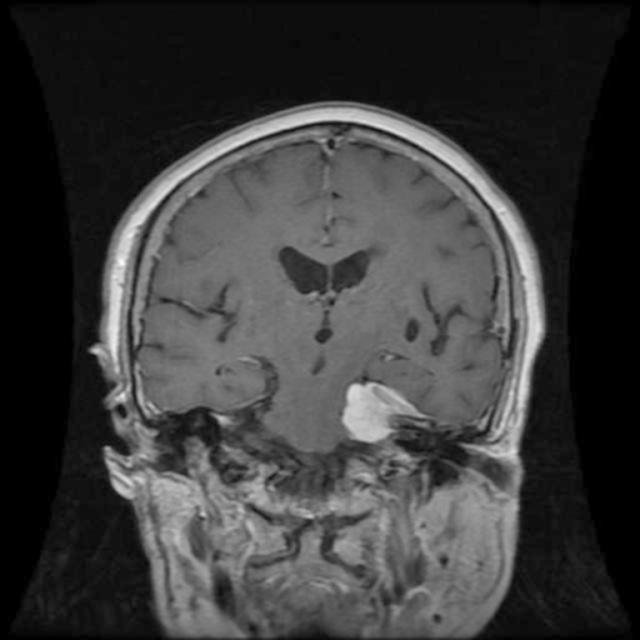meningioma tumor: (335, 370, 445, 452)
